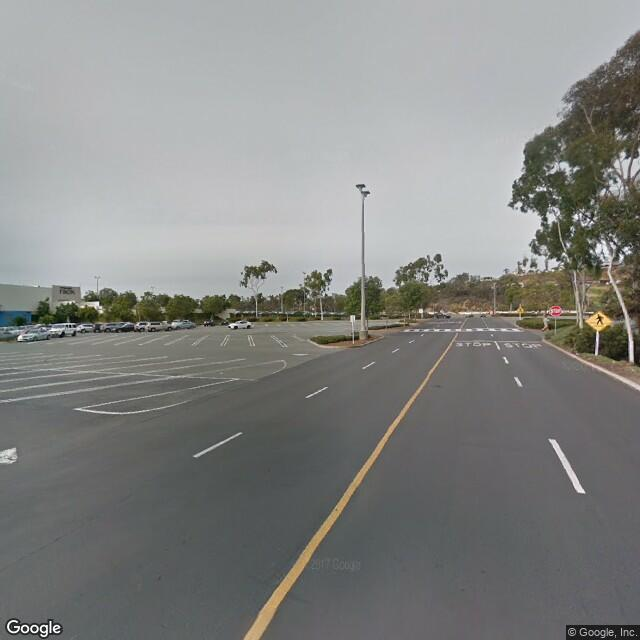litter: (610, 358, 620, 366), (630, 369, 636, 375)
